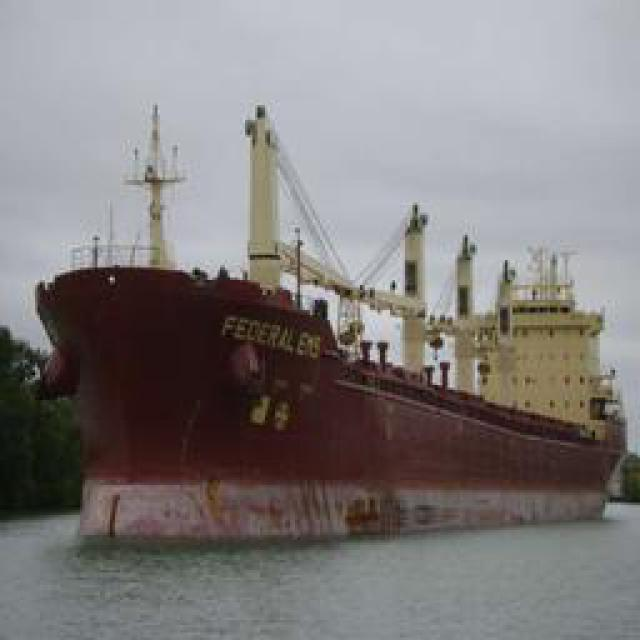Ship: (45, 158, 630, 543)
